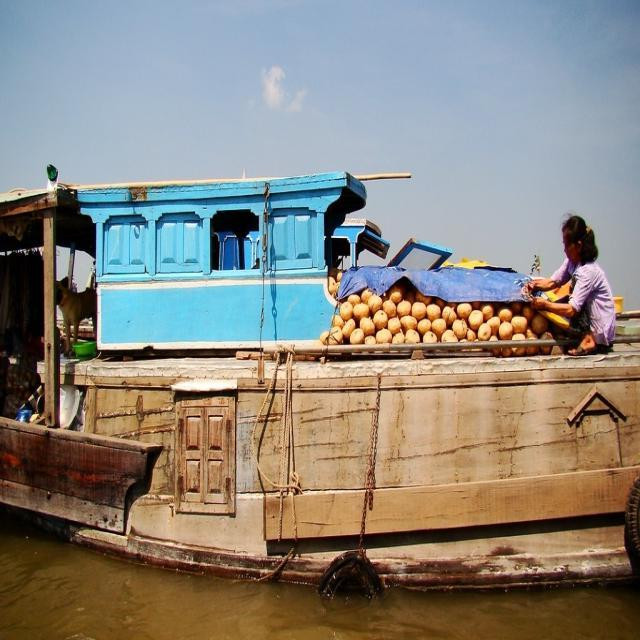boat: (3, 320, 640, 586)
